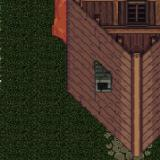Obstacle: (28, 0, 160, 90)
